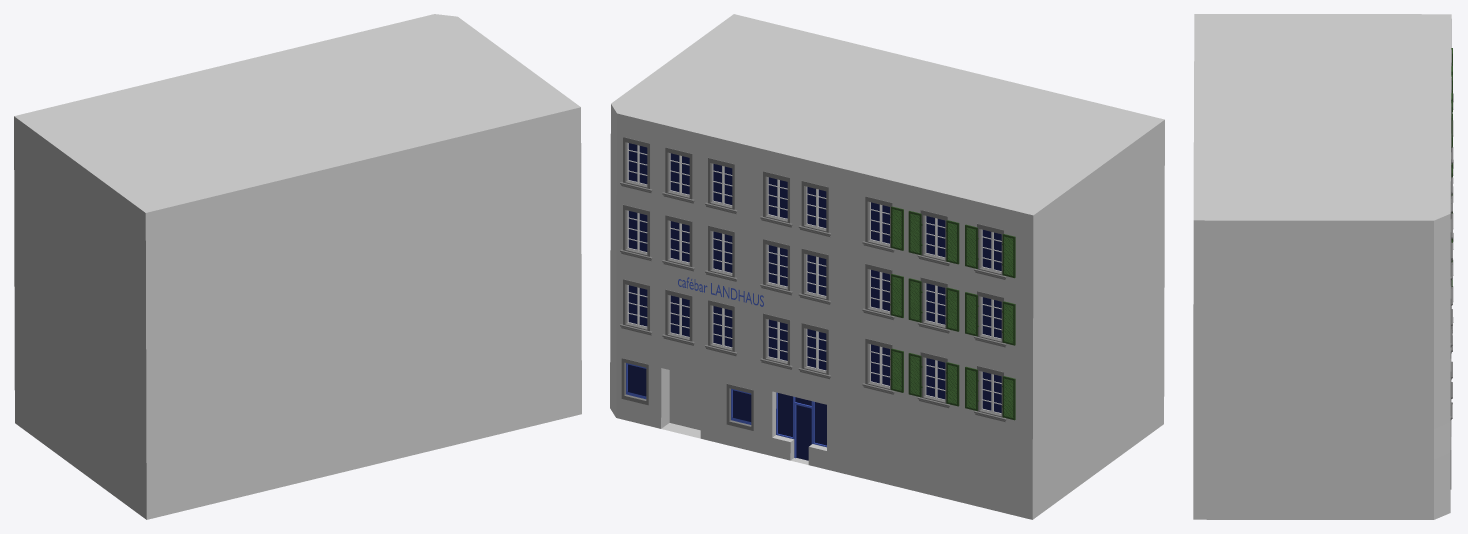
Rendered from Landhaus 1.fbx.
The picture shows the model from 3 angles, left to right: view 1: azimuth 30°, elevation 25°; view 2: azimuth 150°, elevation 25°; view 3: azimuth 270°, elevation 25°; orthographic projection. The views are drawn at different scales.
Parts seen in each view (by area): view 1: Cube.8879, Cube.8828; view 2: Cube.8879, Cube.8828, Cube.8878, Cube.8842, Cube.8833, Cube.8857, Cube.8848, Cube.8863, Cube.8872, Cube.8844, Cube.8859, Cube.8829 (+27 smaller); view 3: Cube.8828, Cube.8879.
Boxes of the visible parts, <box> form: Cube.8879: <box>14,67,346,519</box>; Cube.8828: <box>214,14,581,471</box>; Cube.8879: <box>834,71,1164,519</box>; Cube.8828: <box>610,14,966,471</box>; Cube.8878: <box>778,393,826,460</box>; Cube.8842: <box>760,171,792,227</box>; Cube.8833: <box>662,147,694,203</box>; Cube.8857: <box>760,239,792,295</box>; Cube.8848: <box>662,215,694,271</box>; Cube.8863: <box>662,289,694,345</box>; Cube.8872: <box>760,313,792,369</box>; Cube.8844: <box>628,211,647,251</box>; Cube.8859: <box>628,285,647,326</box>; Cube.8829: <box>628,143,647,184</box>; Cube.8828: <box>1193,109,1450,519</box>; Cube.8879: <box>1194,14,1451,133</box>.
Size of the model in its own units: 2214 by 1502 by 1175.
